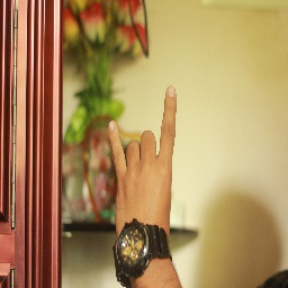V: (101, 78, 188, 247)
